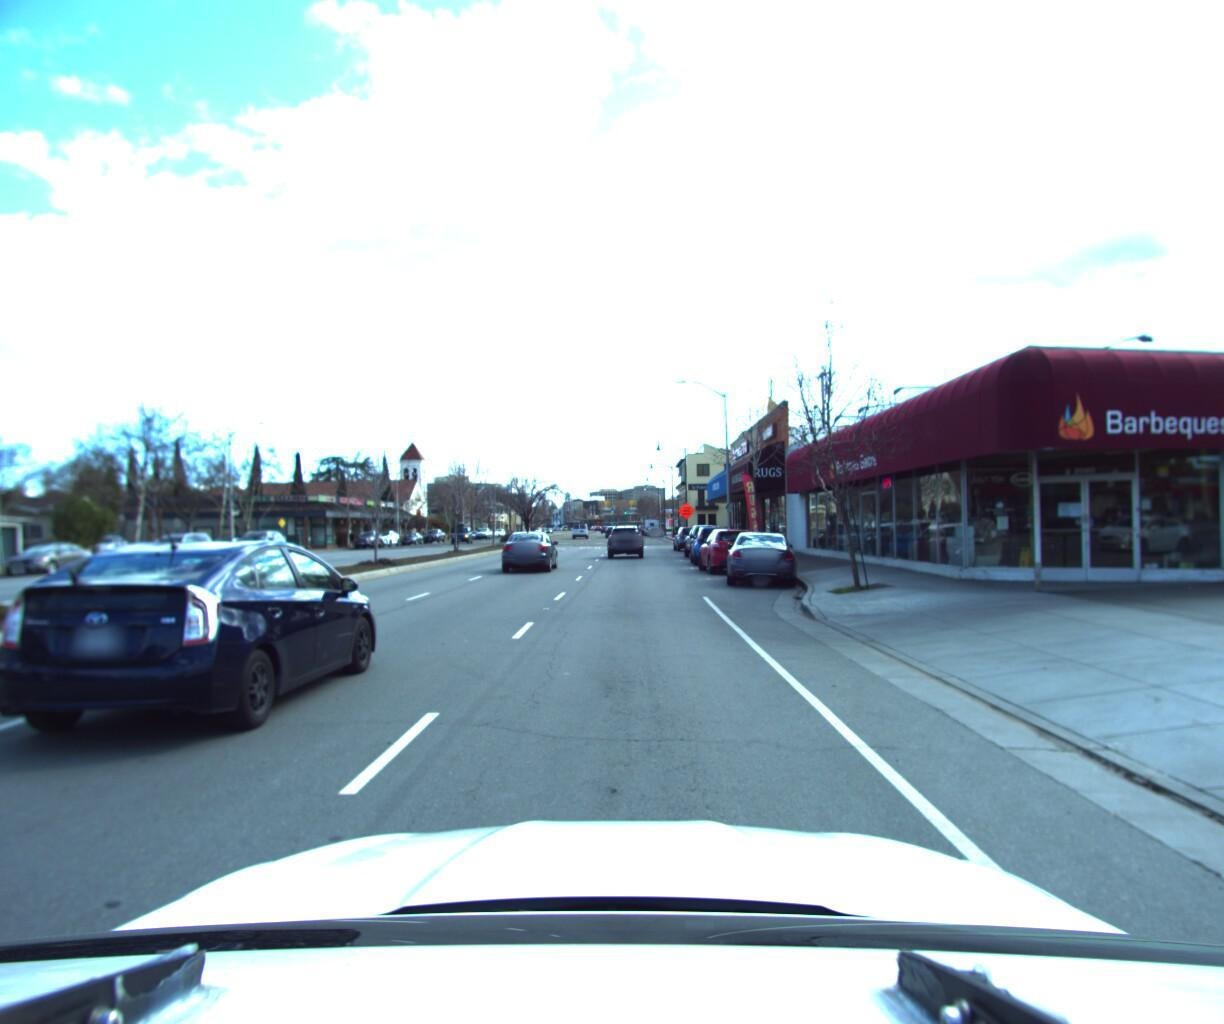car: (0, 531, 389, 764), (726, 525, 799, 589), (0, 541, 104, 579), (697, 524, 764, 571), (136, 530, 222, 566), (502, 526, 559, 571), (225, 528, 292, 559), (690, 522, 738, 561), (682, 520, 733, 556), (76, 534, 136, 559), (605, 521, 642, 556), (670, 521, 708, 548), (352, 528, 386, 547)
